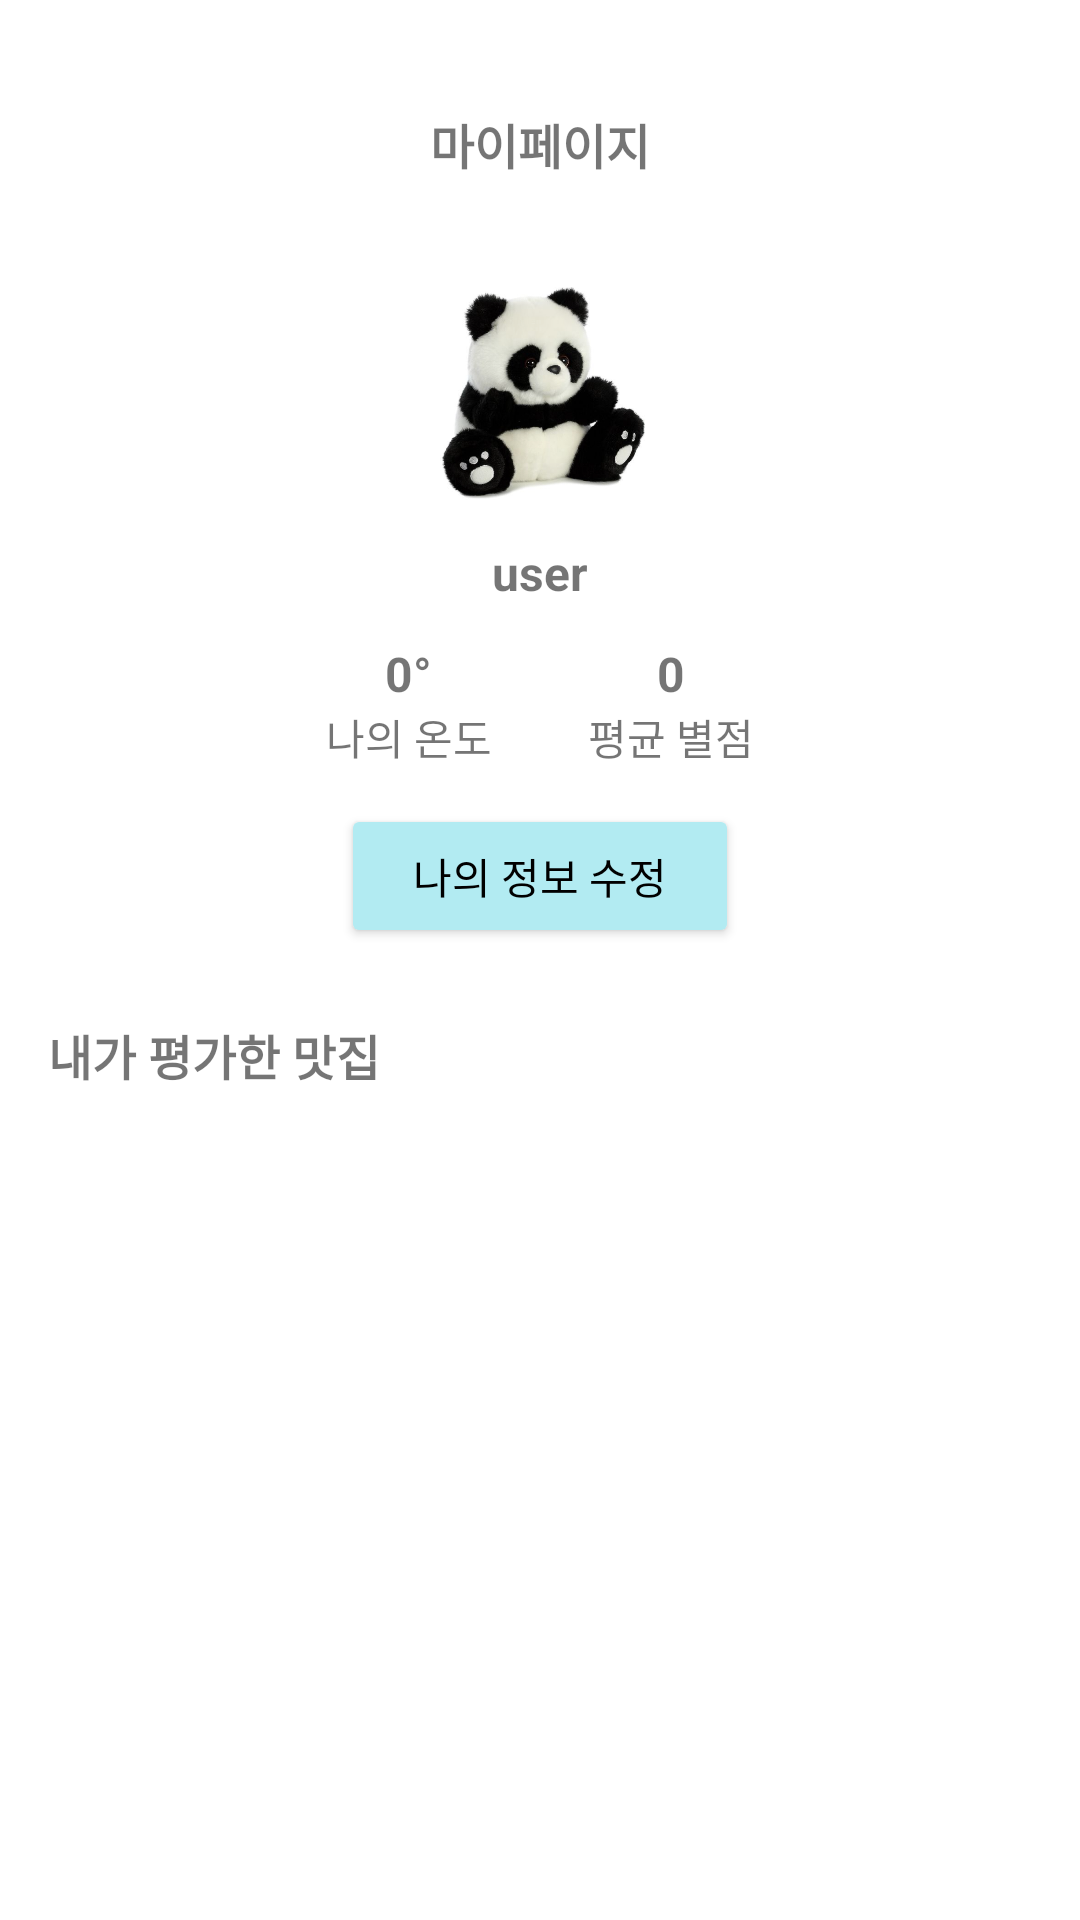

Named icons in this screenshot (1080w x 1920h) and their bounding boxes, (x1, y1, x2, y2):
panda: (442, 287, 645, 498)
